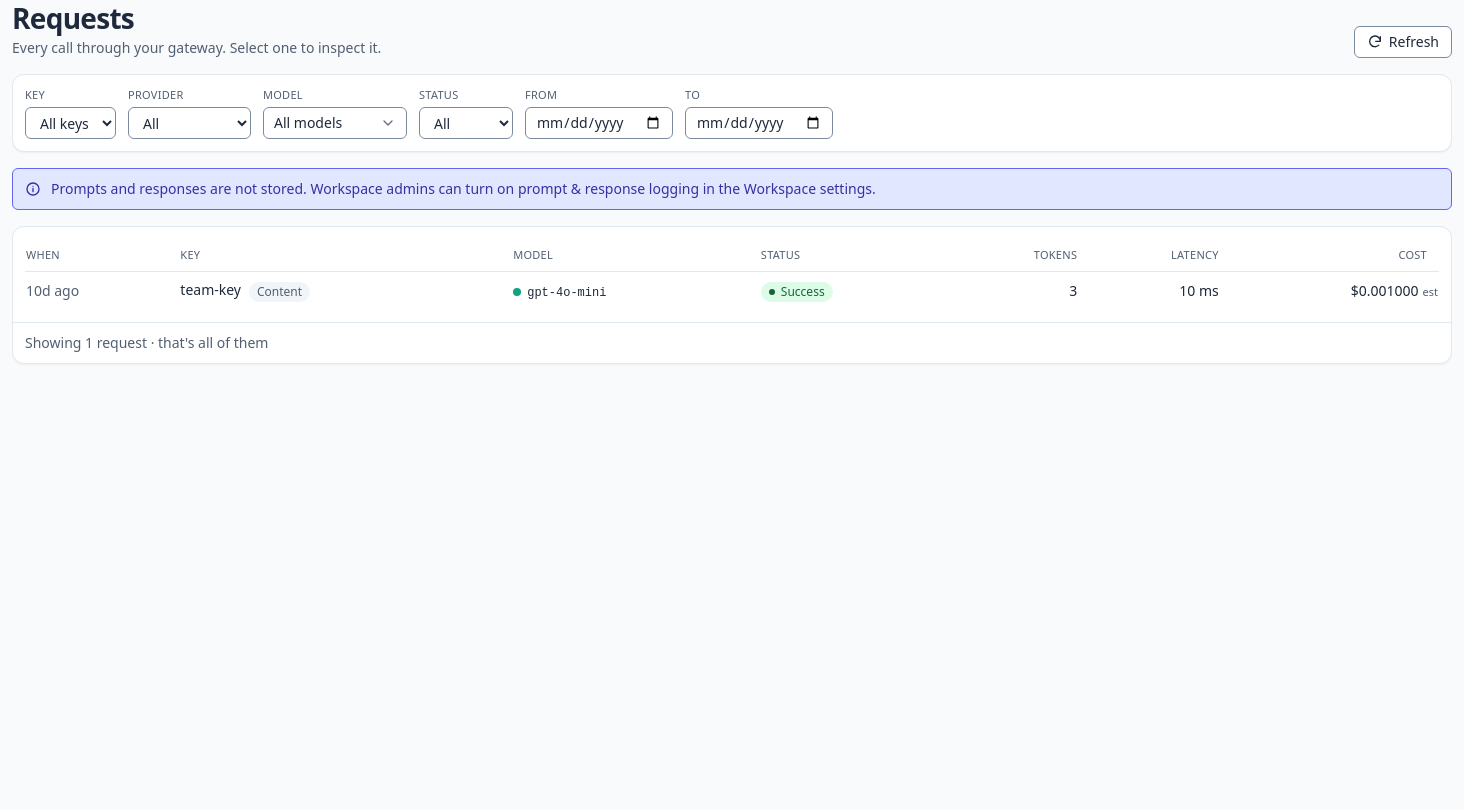
Requests: copy › states when the stored content will be deleted
Click the text "team-key": (53, 290) x1=25 y1=272 x2=1439 y2=310
(page scrolled)
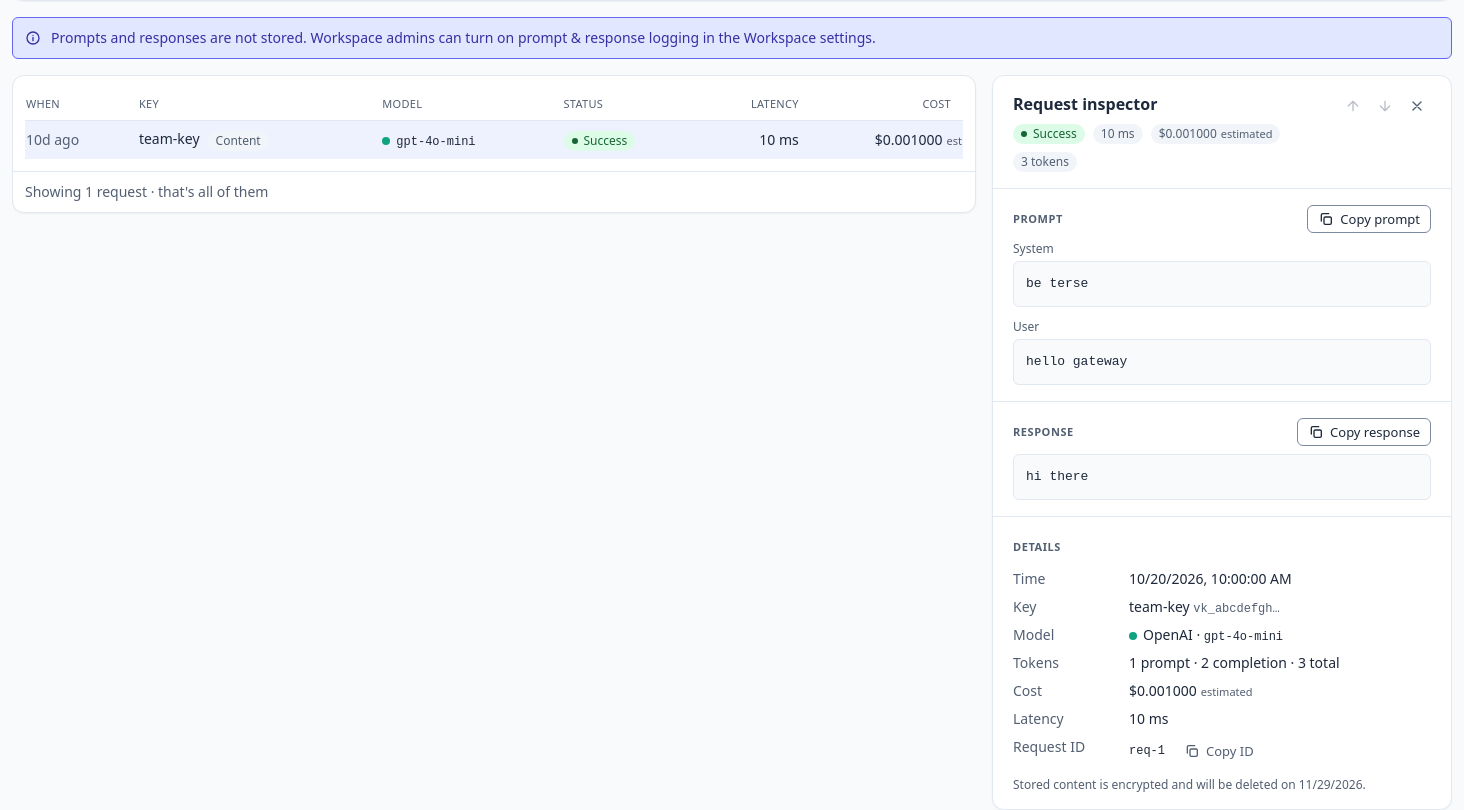
Now the text "Stored content is encrypted and will be deleted on" is shown, box x1=1013 y1=776 x2=1299 y2=793
